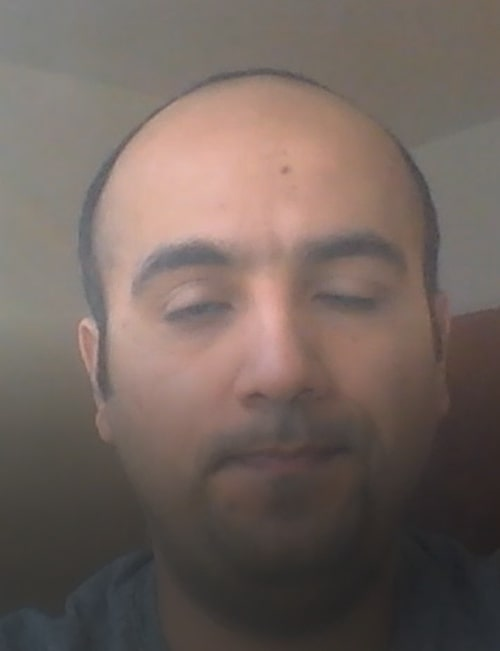Sleeping: (126, 224, 418, 353)
